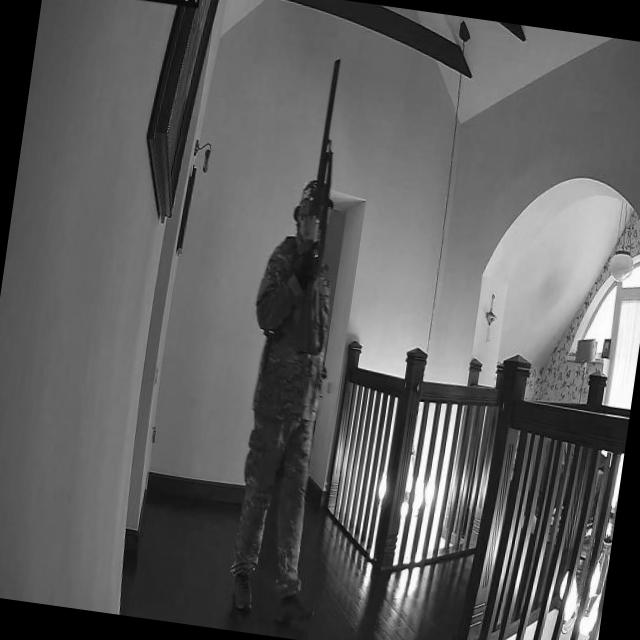gun: (288, 55, 354, 358)
person with a gun: (212, 46, 368, 621)
